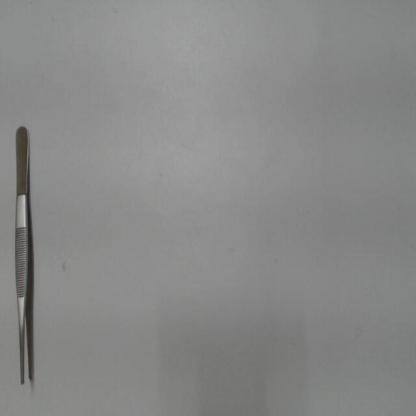Gillies Toothed Dissector: (14, 116, 34, 394)
